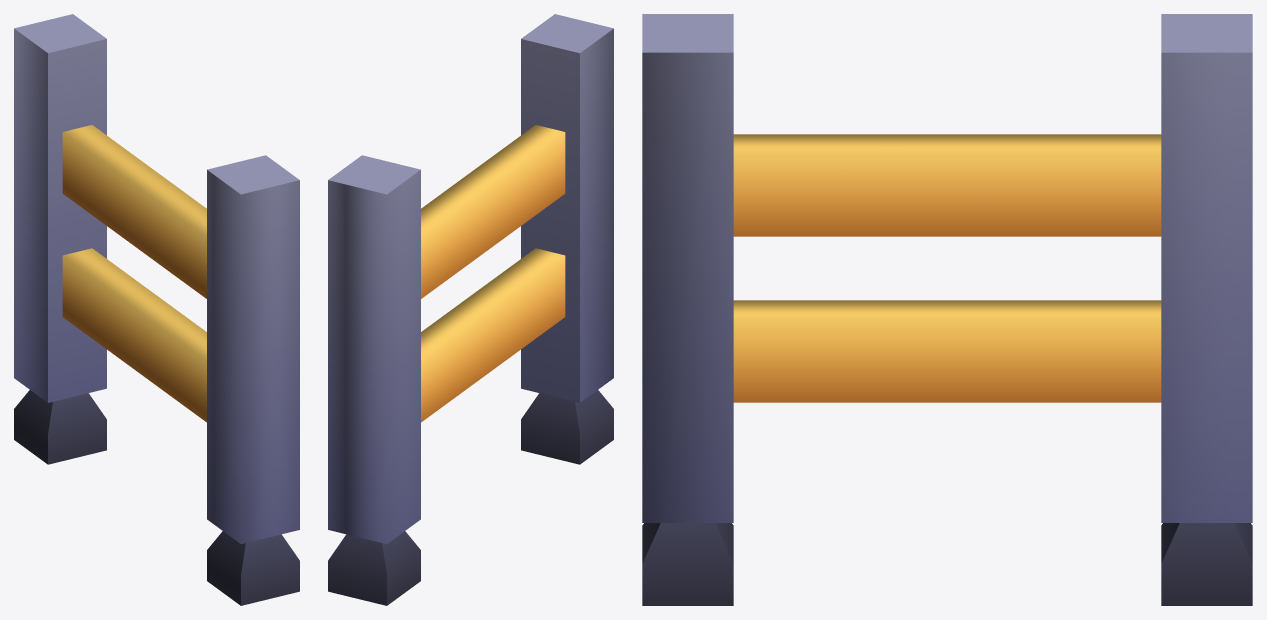
File: structure-yellow-medium.glb
The picture shows the model from 3 angles, left to right: view 1: azimuth 30°, elevation 25°; view 2: azimuth 150°, elevation 25°; view 3: azimuth 270°, elevation 25°; orthographic projection. The views are drawn at different scales.
Visible parts, largest first — view 1: structure-yellow-medium; view 2: structure-yellow-medium; view 3: structure-yellow-medium.
Part boxes in pixels (<box>): structure-yellow-medium: <box>14,14,299,605</box>; structure-yellow-medium: <box>328,14,613,605</box>; structure-yellow-medium: <box>642,14,1252,605</box>.
Bounding box in the file's own units: 0.15 × 1 × 1.
